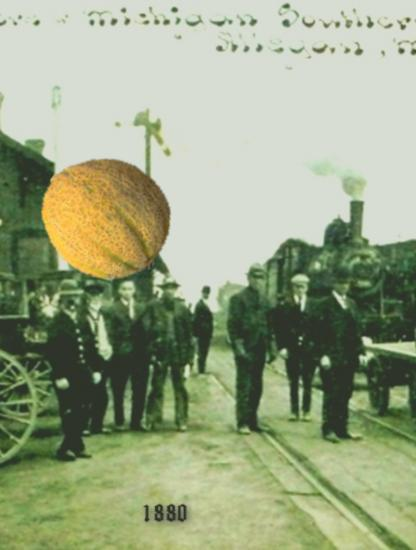Cantaloupe: (39, 150, 173, 284)
